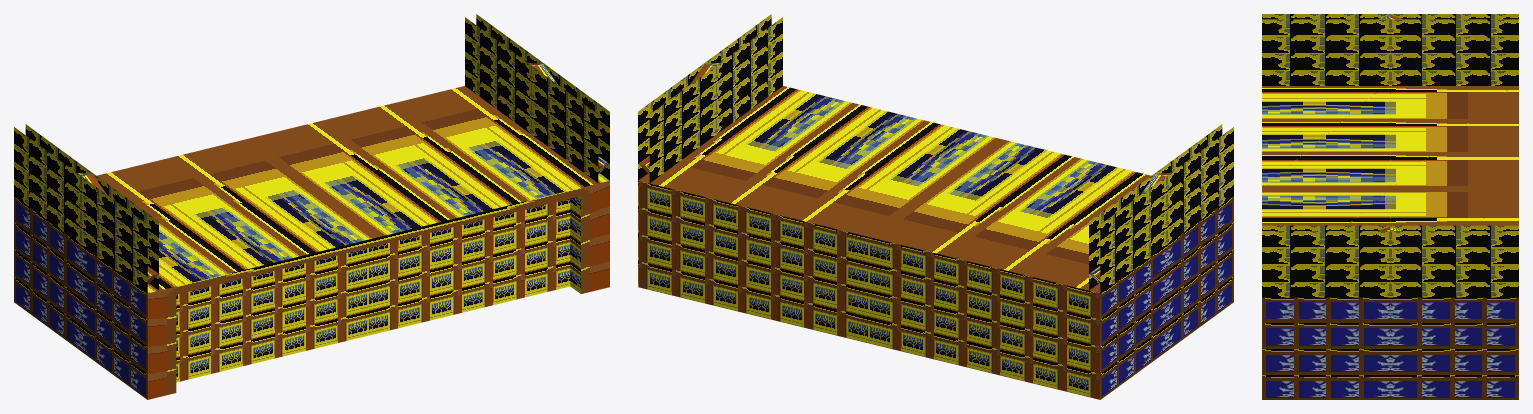
Rendered from 3644kg_case_11.gltf.
The picture shows the model from 3 angles, left to right: view 1: azimuth 30°, elevation 25°; view 2: azimuth 150°, elevation 25°; view 3: azimuth 270°, elevation 25°; orthographic projection. The views are drawn at different scales.
Parts seen in each view (by area): view 1: 3644kg_case_11; view 2: 3644kg_case_11; view 3: 3644kg_case_11.
Part boxes in pixels (<box>): 3644kg_case_11: <box>14,14,609,399</box>; 3644kg_case_11: <box>638,14,1233,399</box>; 3644kg_case_11: <box>1262,14,1518,399</box>.
Bounding box in the file's own units: 2 × 0.7253 × 1.
Materials: 3 (3 with a texture image).
